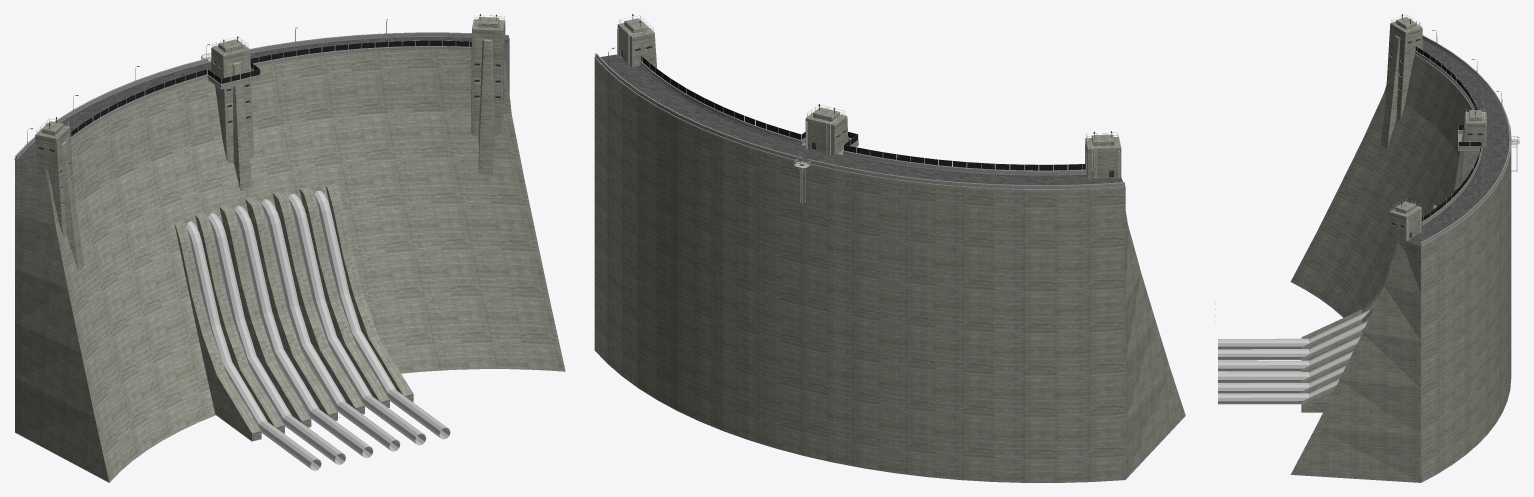
The model's file is building_2.fbx.
The picture shows the model from 3 angles, left to right: view 1: azimuth 30°, elevation 25°; view 2: azimuth 150°, elevation 25°; view 3: azimuth 270°, elevation 25°; orthographic projection. The views are drawn at different scales.
Parts seen in each view (by area): view 1: building_2_Layer1, building_2_Layer3; view 2: building_2_Layer1, building_2_Layer4, building_2_Layer2; view 3: building_2_Layer1, building_2_Layer3, building_2_Layer2, building_2_Layer4.
Part boxes in pixels (x1,y1,x2,y2): building_2_Layer1: [14, 14, 565, 482]; building_2_Layer3: [186, 191, 450, 470]; building_2_Layer1: [594, 14, 1185, 482]; building_2_Layer4: [617, 28, 1119, 178]; building_2_Layer2: [619, 15, 1119, 203]; building_2_Layer1: [1214, 14, 1511, 482]; building_2_Layer3: [1218, 301, 1376, 404]; building_2_Layer2: [1390, 15, 1519, 233]; building_2_Layer4: [1407, 25, 1486, 240].
Size of the model in its own units: 170 by 102 by 105.
